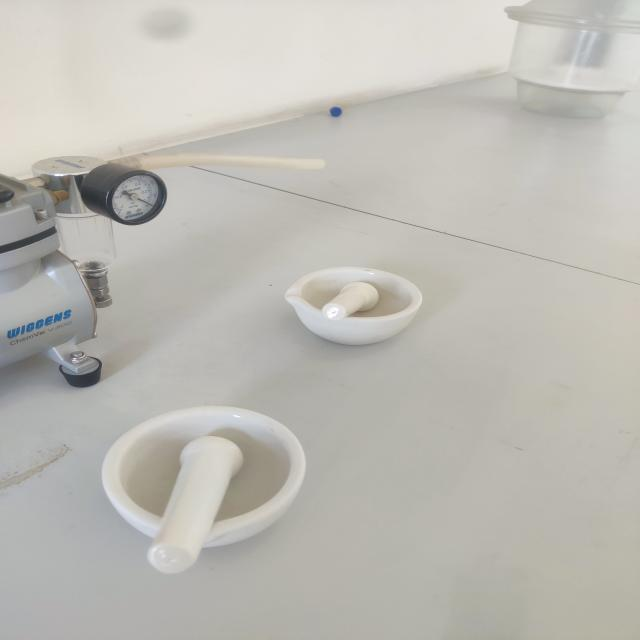Porcelain_Mortar Pestle: (71, 396, 348, 588), (265, 252, 454, 370)
